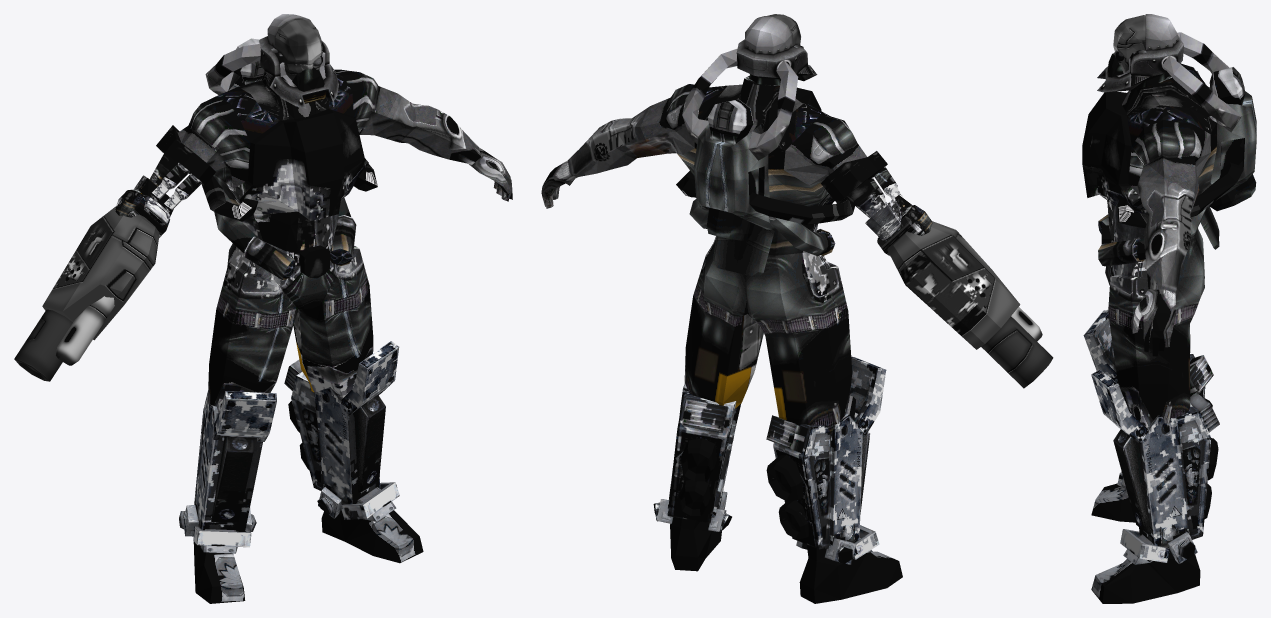
Rendered from robotX.obj.
3 views of the same model, side by side, from view 1: azimuth 30°, elevation 25°; view 2: azimuth 150°, elevation 25°; view 3: azimuth 270°, elevation 25° (orthographic). The views are drawn at different scales.
Visible parts, largest first — view 1: robot:polySurface237 polySurface30, robot:polySurface237 polySurface29, polySurface1 robot:polySurface237, robot:polySurface237 polySurface189, robot:polySurface237 polySurface9, robot:polySurface237 polySurface153, robot:polySurface237 polySurface8, robot:polySurface237 polySurface94, robot:polySurface237 polySurface56, robot:polySurface237 polySurface143, robot:polySurface237 polySurface86, robot:polySurface237 polySurface190 (+22 smaller); view 2: robot:polySurface237 polySurface29, robot:polySurface237 polySurface189, robot:polySurface237 polySurface30, robot:polySurface237 polySurface94, robot:polySurface237 polySurface9, robot:polySurface237 polySurface8, robot:polySurface237 polySurface177, robot:polySurface237 polySurface14, robot:polySurface237 polySurface7, robot:polySurface237 polySurface148, robot:polySurface237 polySurface190, robot:polySurface237 polySurface46 (+25 smaller); view 3: robot:polySurface237 polySurface30, robot:polySurface237 polySurface9, robot:polySurface237 polySurface97, polySurface1 robot:polySurface237, robot:polySurface237 polySurface177, robot:polySurface237 polySurface56, robot:polySurface237 polySurface58, robot:polySurface237 polySurface10, robot:polySurface237 polySurface79, robot:polySurface237 polySurface13, robot:polySurface237 polySurface3, robot:polySurface237 polySurface45 (+24 smaller).
Boxes of the visible parts, bbox=[...] form: robot:polySurface237 polySurface30: bbox=[236, 205, 373, 398]; robot:polySurface237 polySurface29: bbox=[207, 241, 315, 410]; polySurface1 robot:polySurface237: bbox=[239, 109, 368, 220]; robot:polySurface237 polySurface189: bbox=[42, 206, 159, 340]; robot:polySurface237 polySurface9: bbox=[334, 69, 480, 164]; robot:polySurface237 polySurface153: bbox=[291, 376, 352, 504]; robot:polySurface237 polySurface8: bbox=[178, 96, 250, 187]; robot:polySurface237 polySurface94: bbox=[194, 390, 262, 531]; robot:polySurface237 polySurface56: bbox=[345, 510, 423, 563]; robot:polySurface237 polySurface143: bbox=[213, 391, 276, 441]; robot:polySurface237 polySurface86: bbox=[212, 436, 253, 522]; robot:polySurface237 polySurface190: bbox=[14, 309, 72, 381]; robot:polySurface237 polySurface29: bbox=[746, 229, 852, 436]; robot:polySurface237 polySurface189: bbox=[887, 221, 1020, 349]; robot:polySurface237 polySurface30: bbox=[684, 223, 817, 408]; robot:polySurface237 polySurface94: bbox=[804, 415, 862, 549]; robot:polySurface237 polySurface9: bbox=[567, 84, 694, 176]; robot:polySurface237 polySurface8: bbox=[784, 115, 866, 185]; robot:polySurface237 polySurface177: bbox=[736, 16, 817, 81]; robot:polySurface237 polySurface14: bbox=[716, 124, 776, 230]; robot:polySurface237 polySurface7: bbox=[768, 104, 830, 206]; robot:polySurface237 polySurface148: bbox=[667, 383, 735, 523]; robot:polySurface237 polySurface190: bbox=[981, 316, 1053, 388]; robot:polySurface237 polySurface46: bbox=[749, 192, 854, 225]; robot:polySurface237 polySurface30: bbox=[1105, 200, 1204, 427]; robot:polySurface237 polySurface9: bbox=[1128, 120, 1210, 292]; robot:polySurface237 polySurface97: bbox=[1139, 411, 1211, 547]; polySurface1 robot:polySurface237: bbox=[1082, 92, 1144, 213]; robot:polySurface237 polySurface177: bbox=[1097, 14, 1183, 92]; robot:polySurface237 polySurface56: bbox=[1091, 559, 1177, 603]; robot:polySurface237 polySurface58: bbox=[1131, 289, 1175, 356]; robot:polySurface237 polySurface10: bbox=[1127, 105, 1216, 213]; robot:polySurface237 polySurface79: bbox=[1122, 75, 1216, 122]; robot:polySurface237 polySurface13: bbox=[1210, 102, 1256, 200]; robot:polySurface237 polySurface3: bbox=[1162, 55, 1241, 132]; robot:polySurface237 polySurface45: bbox=[1117, 162, 1243, 228].
Bounding box in the file's own units: 15.85 × 16.63 × 4.91.
4 materials, 4 textured.
